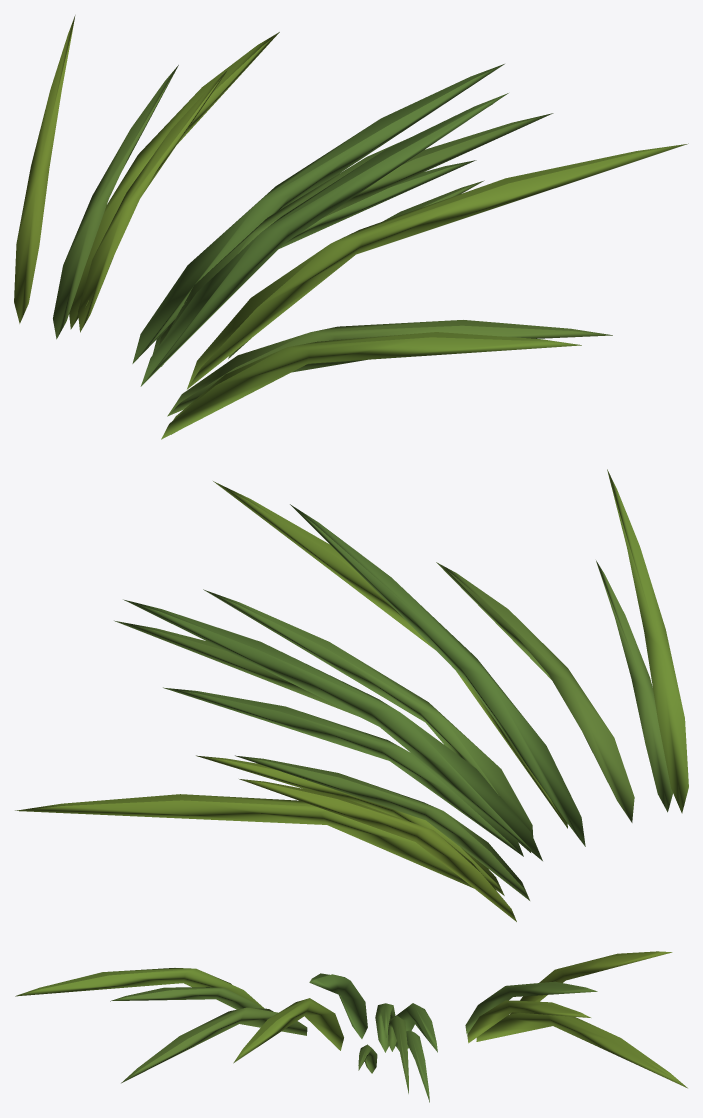
Rendered from rim_grass.glb.
3 renders of one model, top to bottom at view 1: azimuth 30°, elevation 25°; view 2: azimuth 150°, elevation 25°; view 3: azimuth 270°, elevation 25°, orthographic. The views are drawn at different scales.
Visible parts, largest first — view 1: Sammel Pflanze; view 2: Sammel Pflanze; view 3: Sammel Pflanze.
Boxes of the visible parts, x1,y1,x2,y2 form: Sammel Pflanze: (14,15,688,439); Sammel Pflanze: (15,469,688,921); Sammel Pflanze: (15,951,687,1102).
Bounding box in the file's own units: 0.4286 × 0.1956 × 0.6674.
